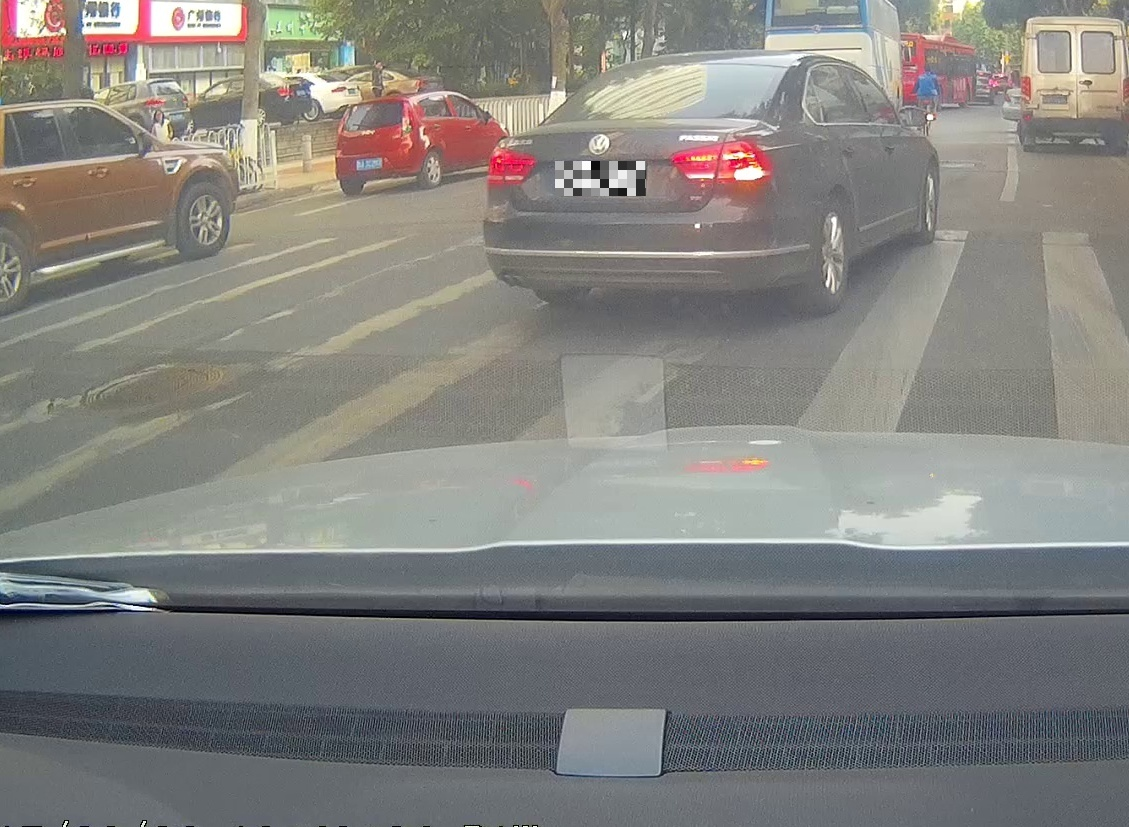L_light: (484, 146, 537, 188), (1019, 76, 1031, 102), (336, 128, 346, 150)
R_light: (669, 138, 774, 191), (401, 118, 413, 137), (1122, 77, 1129, 103)
T_light: (594, 112, 631, 122), (1066, 22, 1084, 28), (366, 102, 383, 105)
day-no: (1019, 16, 1129, 150), (334, 96, 420, 194)
day-right: (484, 50, 776, 317)
plate_1: (555, 161, 646, 196)
